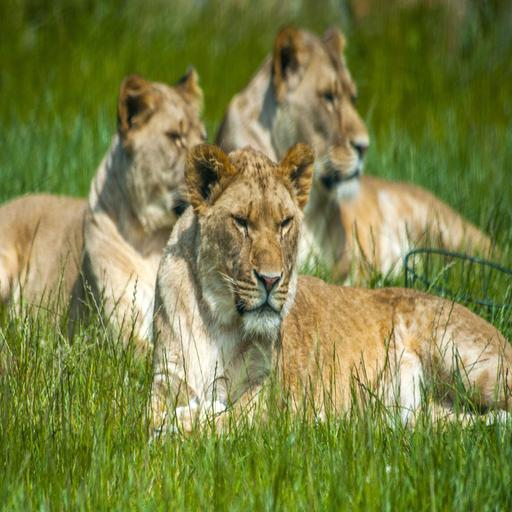Lion: (149, 138, 512, 445), (212, 15, 512, 318), (0, 64, 235, 443)
